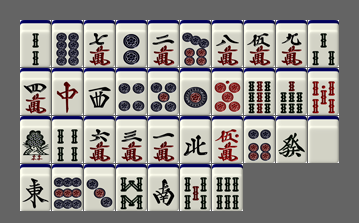0m: (212, 116, 243, 163)
0p: (212, 68, 243, 115)
0s: (308, 68, 339, 115)
1m: (148, 116, 179, 163)
1p: (180, 68, 211, 115)
1s: (20, 116, 51, 163)
1z: (20, 164, 51, 211)
2m: (148, 20, 179, 67)
2p: (116, 20, 147, 67)
2s: (20, 20, 51, 67)
2z: (148, 164, 179, 211)
3m: (116, 116, 147, 163)
3p: (84, 164, 115, 211)
3s: (308, 20, 339, 67)
3z: (84, 68, 115, 115)
4m: (20, 68, 51, 115)
4p: (116, 68, 147, 115)
4s: (52, 116, 83, 163)
4z: (180, 116, 211, 163)
5m: (244, 20, 275, 67)
5p: (148, 68, 179, 115)
5s: (180, 164, 211, 211)
5z: (308, 116, 339, 163)
6m: (84, 116, 115, 163)
6p: (244, 116, 275, 163)
6s: (212, 164, 243, 211)
6z: (276, 116, 307, 163)
7m: (84, 20, 115, 67)
7p: (180, 20, 211, 67)
7s: (276, 68, 307, 115)
7z: (52, 68, 83, 115)
8m: (212, 20, 243, 67)
8p: (52, 20, 83, 67)
8s: (116, 164, 147, 211)
9m: (276, 20, 307, 67)
9p: (52, 164, 83, 211)
9s: (244, 68, 275, 115)
